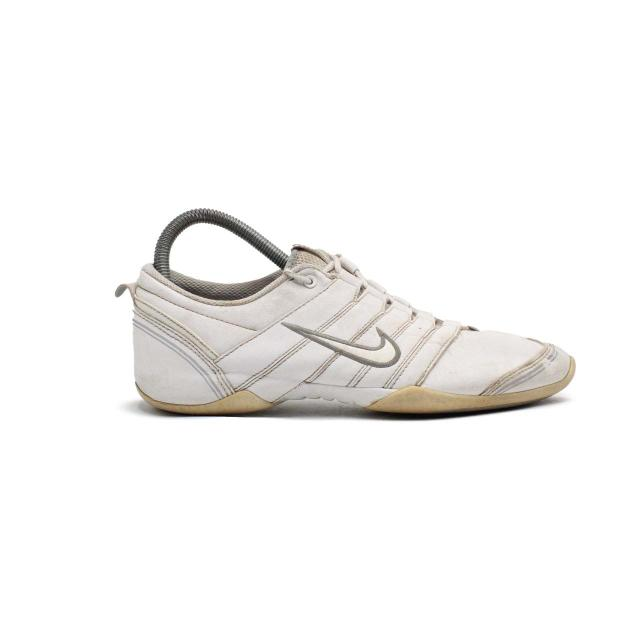heel: (117, 264, 218, 377)
midsole: (133, 357, 572, 421)
uppersole: (214, 246, 565, 392)
